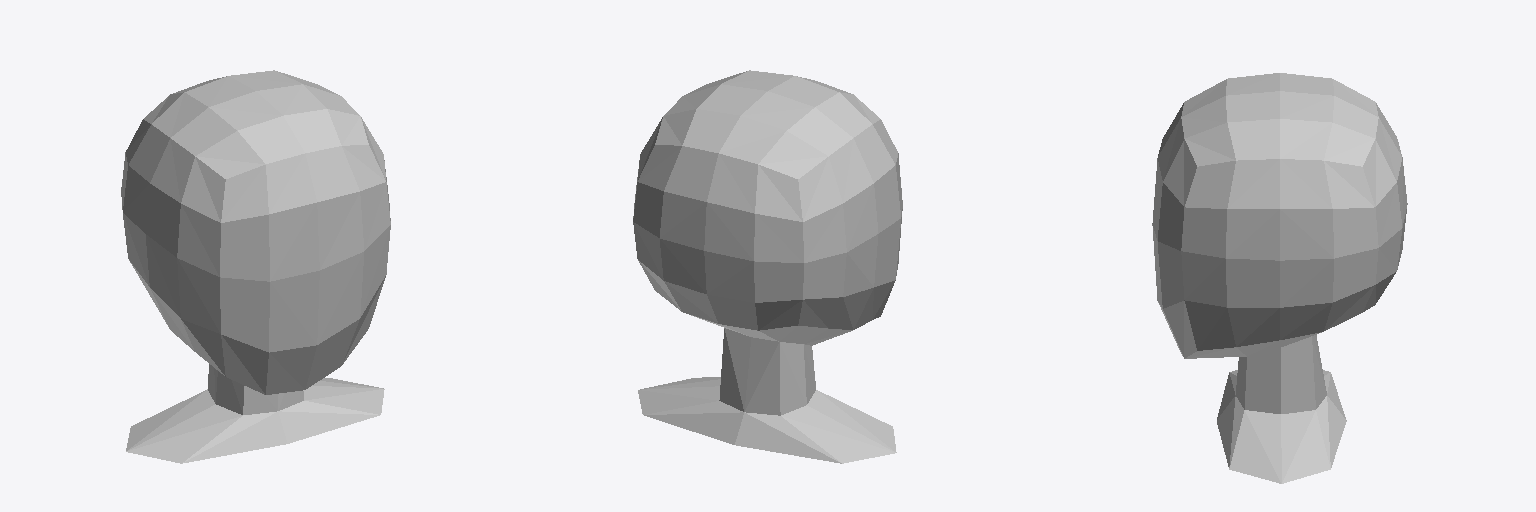
File: basehead0.obj
The picture shows the model from 3 angles: view 1: azimuth 30°, elevation 25°; view 2: azimuth 150°, elevation 25°; view 3: azimuth 270°, elevation 25°; orthographic projection.
Parts seen in each view (by area): view 1: Cube; view 2: Cube; view 3: Cube.
Boxes of the visible parts, box(x1,y1,x2,y2) form: Cube: box(121, 70, 390, 463); Cube: box(633, 70, 902, 463); Cube: box(1152, 73, 1407, 483).
Bounding box in the file's own units: 3.62 × 4.4 × 3.09.